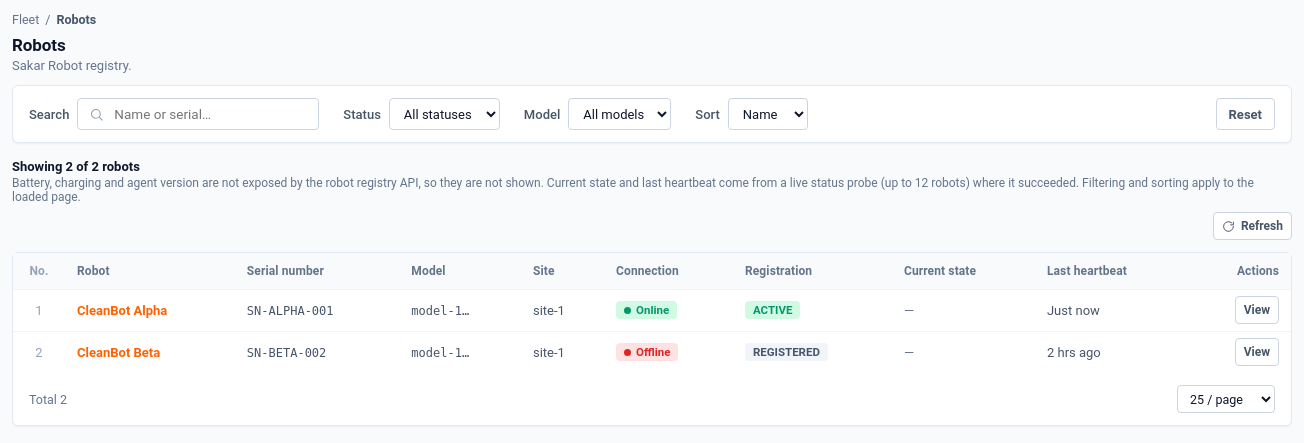
Scenario: RobotsListPage › filters the fleet by name/serial number via the search bar
This screenshot has width=1304, height=443.
Check: the button "CleanBot Alpha" is shown, box [77,302,167,318]
In the search field named "Search robots by name or serial number": (198, 114) [77,98,319,130], type "BETA"
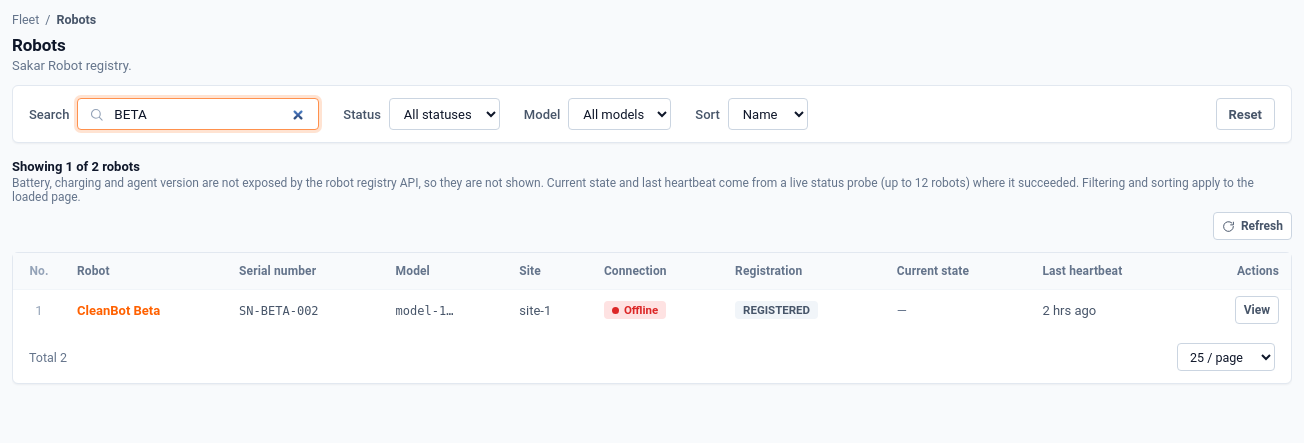
Check: the button "CleanBot Beta" is shown, box [77,303,160,318]
Check: the button "CleanBot Alpha" is gone
